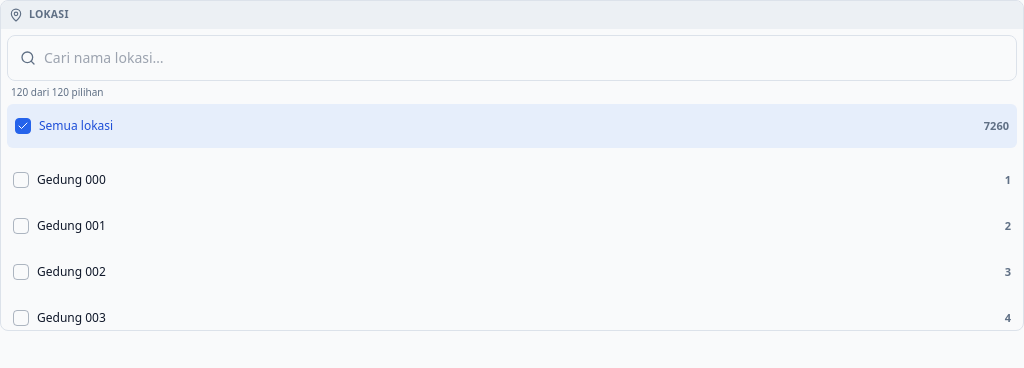
Test case: pilihan jamak bertahan ketika mencari pilihan lain; keyboard dapat melepas satu pilihan
Click the button "Gedung 000 1" at [71, 179], box [5, 158, 1019, 202]
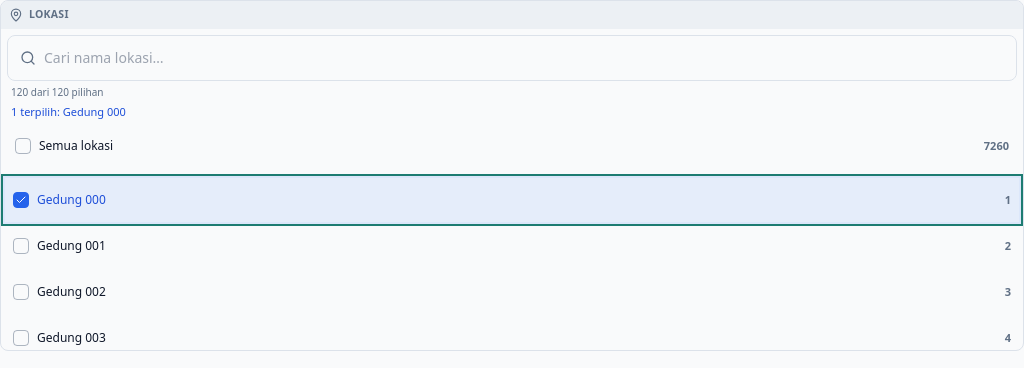
Type "119" into the search field at [504, 58], box [44, 36, 964, 80]
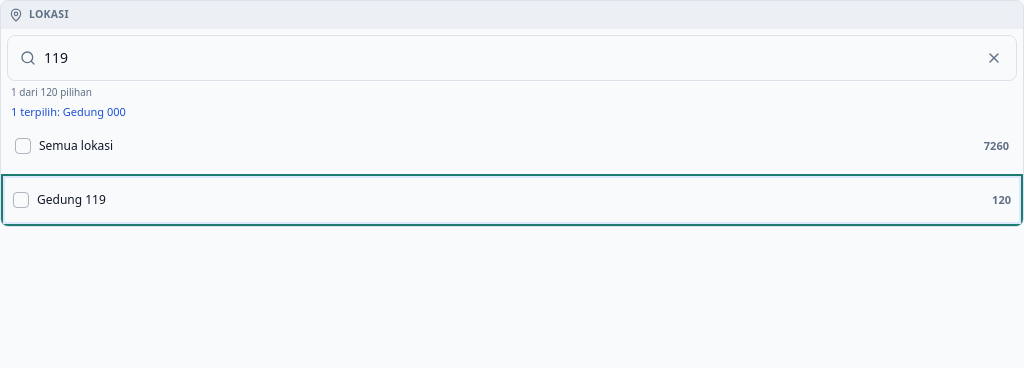
Type keys " "
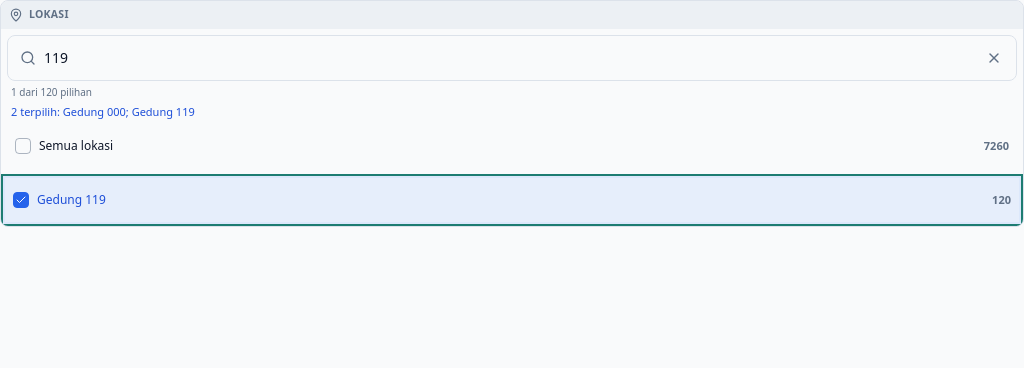
expect the text with test id "cari-lokasi-terpilih" reads "2 terpilih: Gedung 000; Gedung 119": met, box [11, 104, 195, 119]
Press Enter
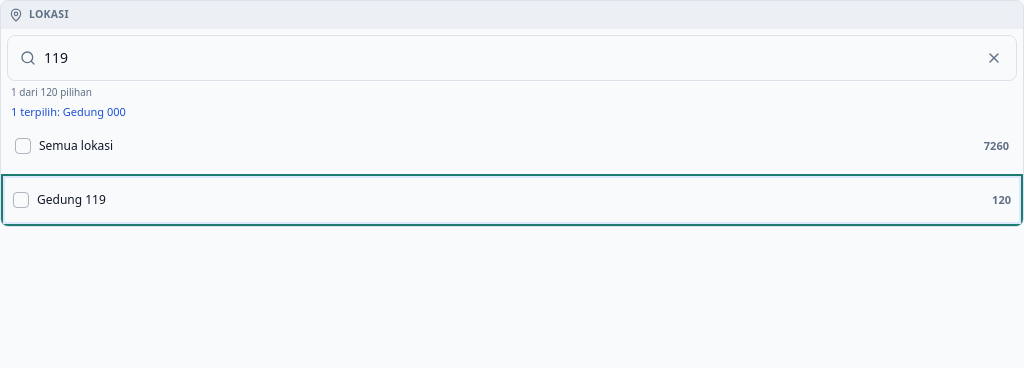
expect the text with test id "cari-lokasi-terpilih" reads "1 terpilih: Gedung 000": met, box [11, 104, 126, 119]
Click the button "Semua lokasi 7260" at [76, 146], box [7, 124, 1017, 168]
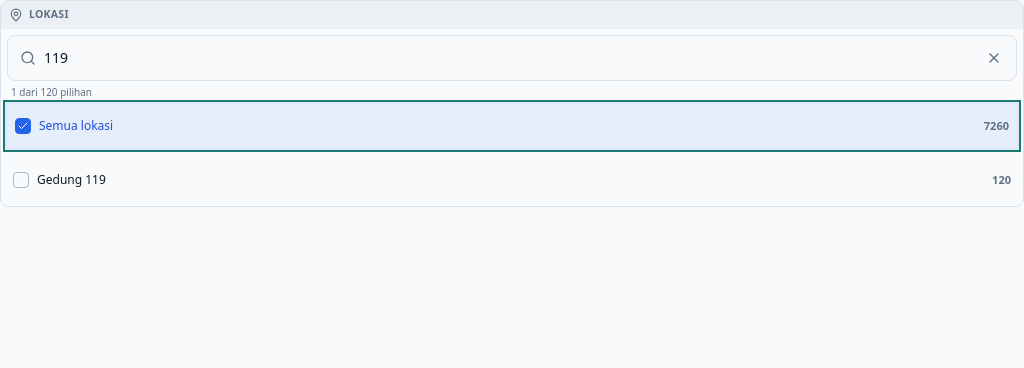
expect the text with test id "cari-lokasi-terpilih" is gone: met
